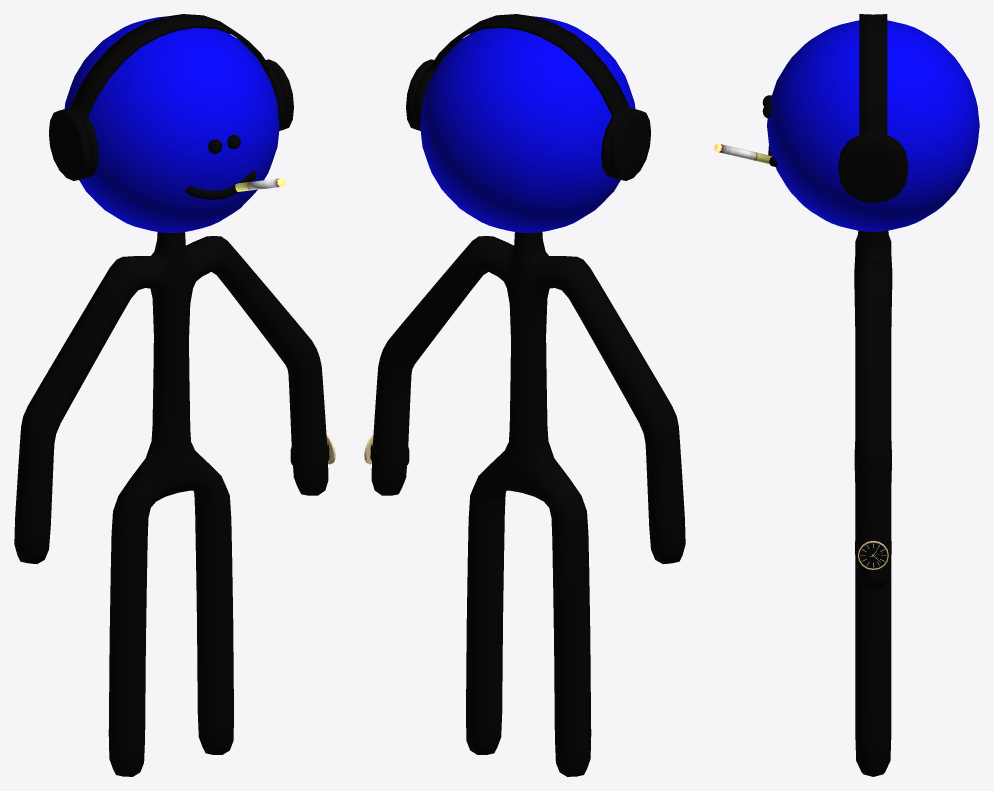
Rendered from stickmanblue.fbx.
The picture shows the model from 3 angles, left to right: view 1: azimuth 30°, elevation 25°; view 2: azimuth 150°, elevation 25°; view 3: azimuth 270°, elevation 25°; orthographic projection.
Visible parts, largest first — view 1: STICKMAN.002; view 2: STICKMAN.002; view 3: STICKMAN.002, cigar.002.
Boxes of the visible parts, <box> form: STICKMAN.002: <box>14,14,335,776</box>; STICKMAN.002: <box>364,14,685,776</box>; STICKMAN.002: <box>762,14,979,776</box>; cigar.002: <box>714,143,771,164</box>.
Size of the model in its own units: 332 by 756 by 249.
Materials: 2 (2 with a texture image).
